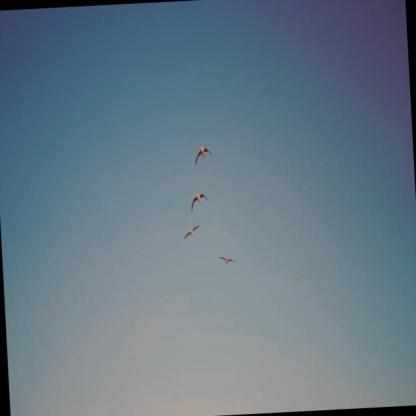bird: (191, 191, 212, 213), (194, 145, 214, 167), (183, 224, 202, 241), (218, 253, 237, 266)
